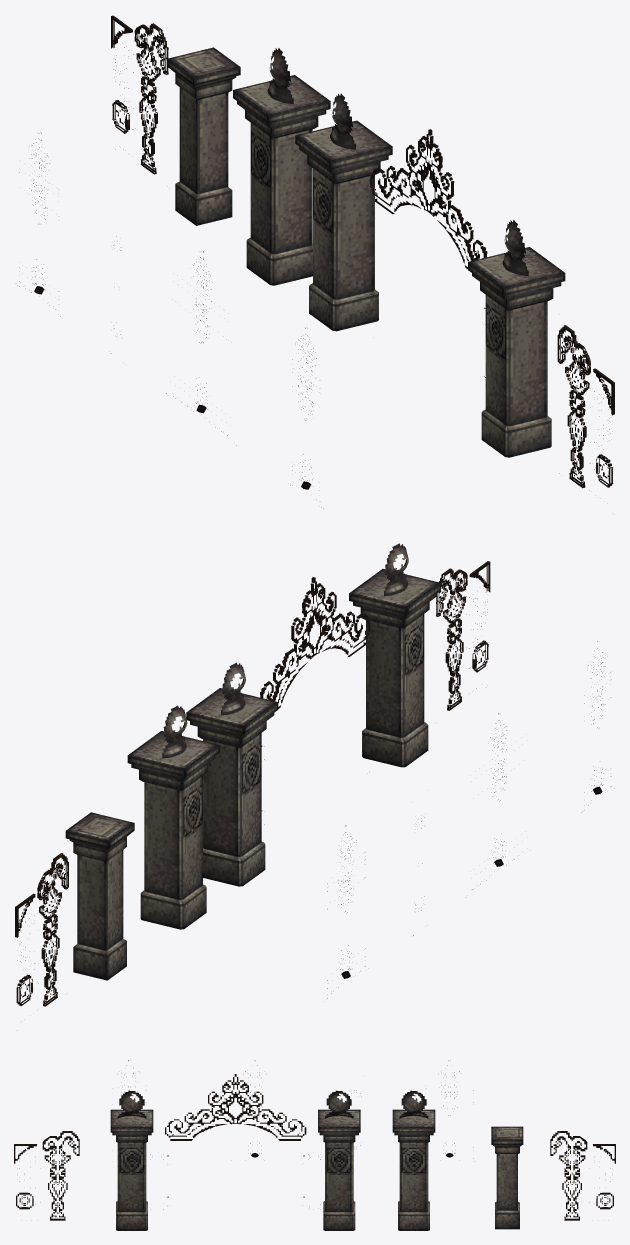
Rendered from EnvMdrMD_City_B_Casino_Fence_A.FBX.
3 views of the same model, one above another, from view 1: azimuth 30°, elevation 25°; view 2: azimuth 150°, elevation 25°; view 3: azimuth 270°, elevation 25° (orthographic). The views are drawn at different scales.
Parts seen in each view (by area): view 1: EnvMdrMD_City_B_Casino_Gate_A, EnvMdrMD_City_B_Casino_Fence_A_Pillar_B, EnvMdrMD_City_B_Casino_Fence_A_Pillar_A, EnvMdrMD_City_B_Casino_Gate_Door_R, EnvMdrMD_City_B_Casino_Gate_Door_L; view 2: EnvMdrMD_City_B_Casino_Gate_A, EnvMdrMD_City_B_Casino_Fence_A_Pillar_B, EnvMdrMD_City_B_Casino_Fence_A_Pillar_A, EnvMdrMD_City_B_Casino_Gate_Door_L, EnvMdrMD_City_B_Casino_Gate_Door_R; view 3: EnvMdrMD_City_B_Casino_Gate_A, EnvMdrMD_City_B_Casino_Fence_A_Pillar_B, EnvMdrMD_City_B_Casino_Fence_A_Pillar_A, EnvMdrMD_City_B_Casino_Gate_Door_L, EnvMdrMD_City_B_Casino_Gate_Door_R.
Part boxes in pixels (x1,y1,x2,y2): EnvMdrMD_City_B_Casino_Gate_A: [295, 93, 565, 457]; EnvMdrMD_City_B_Casino_Fence_A_Pillar_B: [233, 48, 330, 285]; EnvMdrMD_City_B_Casino_Fence_A_Pillar_A: [167, 47, 240, 225]; EnvMdrMD_City_B_Casino_Gate_Door_R: [557, 325, 614, 490]; EnvMdrMD_City_B_Casino_Gate_Door_L: [111, 15, 168, 174]; EnvMdrMD_City_B_Casino_Gate_A: [186, 543, 440, 886]; EnvMdrMD_City_B_Casino_Fence_A_Pillar_B: [127, 705, 219, 929]; EnvMdrMD_City_B_Casino_Fence_A_Pillar_A: [65, 812, 134, 980]; EnvMdrMD_City_B_Casino_Gate_Door_L: [15, 853, 68, 1006]; EnvMdrMD_City_B_Casino_Gate_Door_R: [436, 561, 490, 710]; EnvMdrMD_City_B_Casino_Gate_A: [110, 1074, 360, 1230]; EnvMdrMD_City_B_Casino_Fence_A_Pillar_B: [392, 1090, 435, 1230]; EnvMdrMD_City_B_Casino_Fence_A_Pillar_A: [491, 1126, 523, 1229]; EnvMdrMD_City_B_Casino_Gate_Door_L: [550, 1131, 615, 1220]; EnvMdrMD_City_B_Casino_Gate_Door_R: [14, 1131, 79, 1220].
Bounding box in the file's own units: 483 × 463 × 1684.
Materials: 1 (1 with a texture image).
